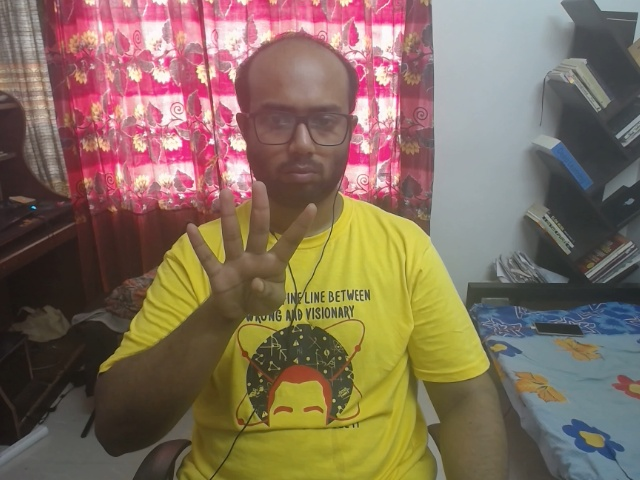four: (157, 173, 335, 335)
